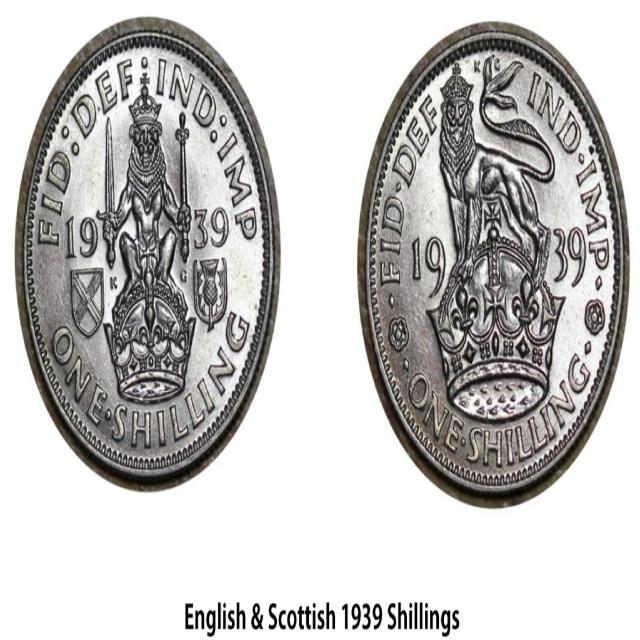Coin: (358, 27, 631, 508), (16, 15, 277, 495)
